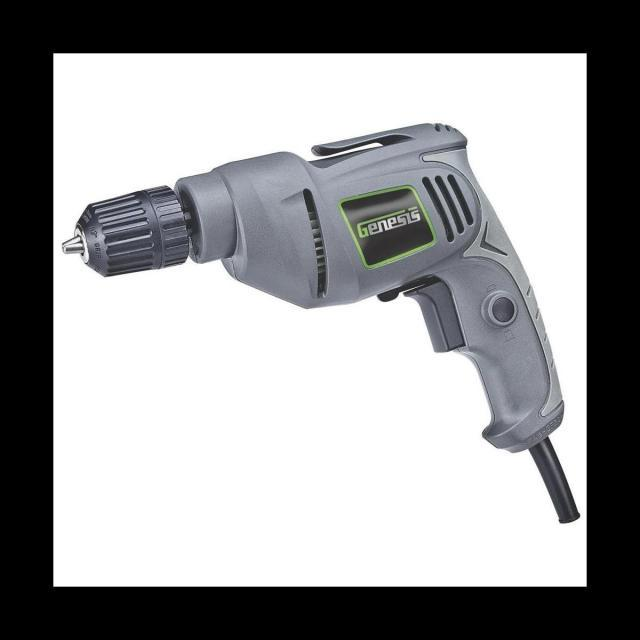drill: (61, 122, 583, 525)
